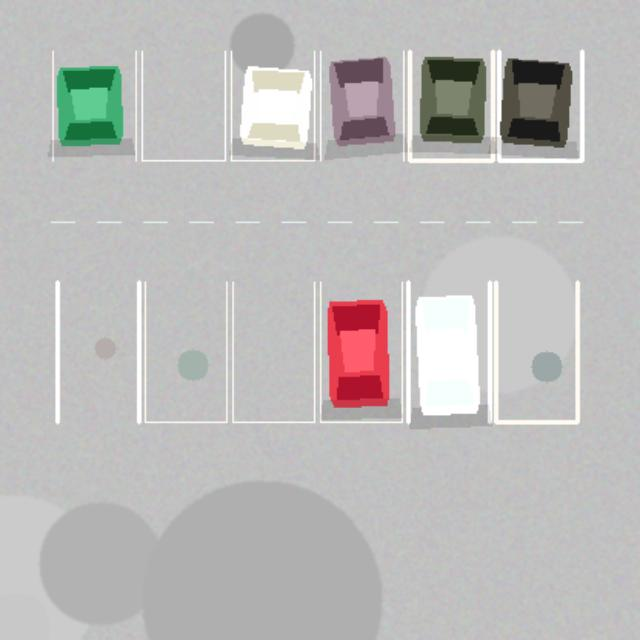space-empty: (232, 282, 314, 422), (495, 282, 577, 422), (57, 282, 138, 422), (145, 282, 226, 422), (142, 51, 225, 160)
space-occupied: (320, 282, 402, 422), (408, 282, 489, 422), (498, 51, 582, 160), (52, 51, 135, 160), (231, 51, 314, 160), (320, 51, 403, 160), (409, 51, 492, 160)
